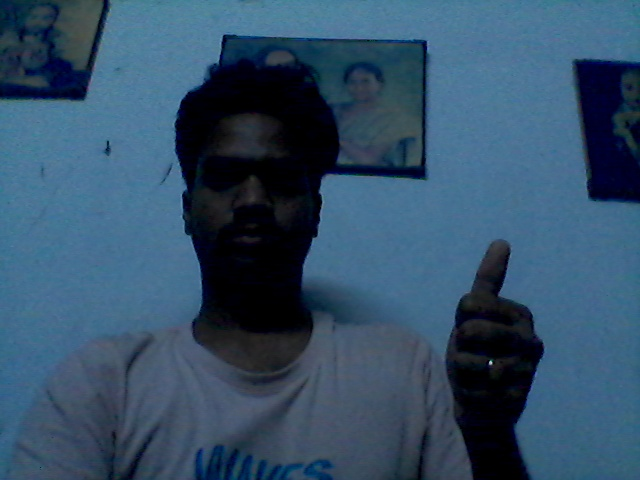Fine: (445, 225, 558, 434)
